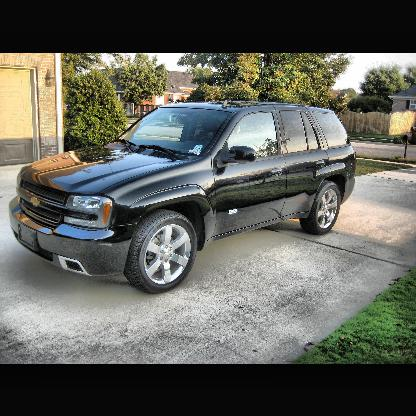Chevrolet TrailBlazer SS 2009: (9, 103, 359, 298)
